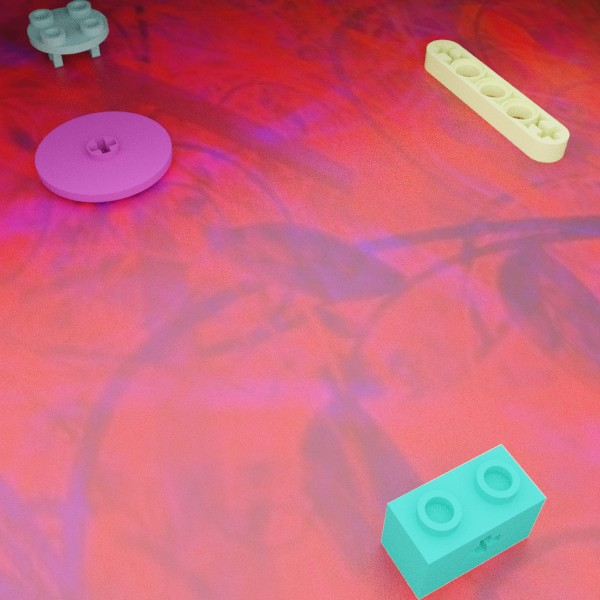lego: (380, 444, 546, 600), (424, 40, 569, 162), (34, 111, 172, 202), (27, 0, 108, 67)
